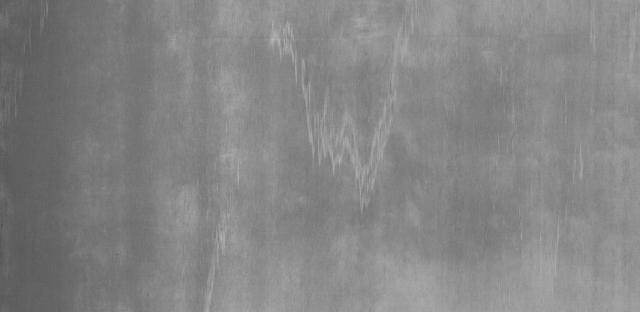silk_spot: (262, 19, 408, 216)
